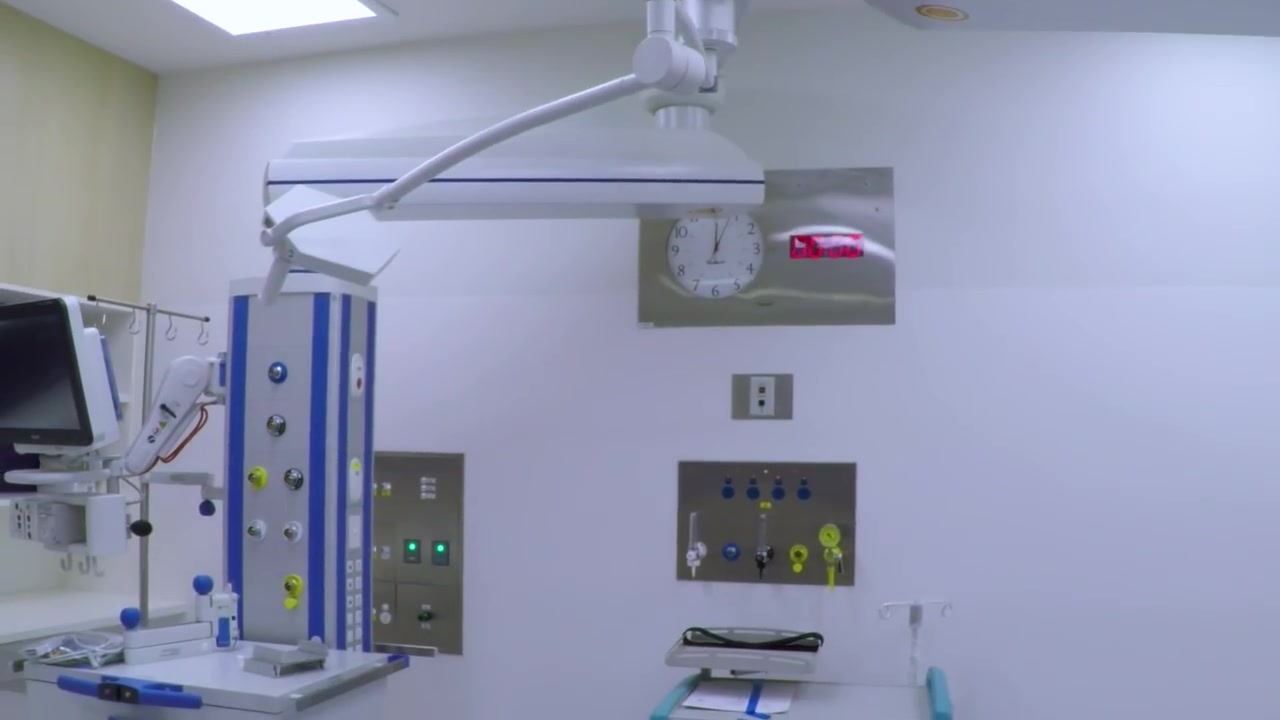bedside_monitor: (1, 297, 122, 455)
iv_pole: (87, 296, 210, 629), (874, 594, 957, 688)
surgical_light: (252, 183, 404, 315)
